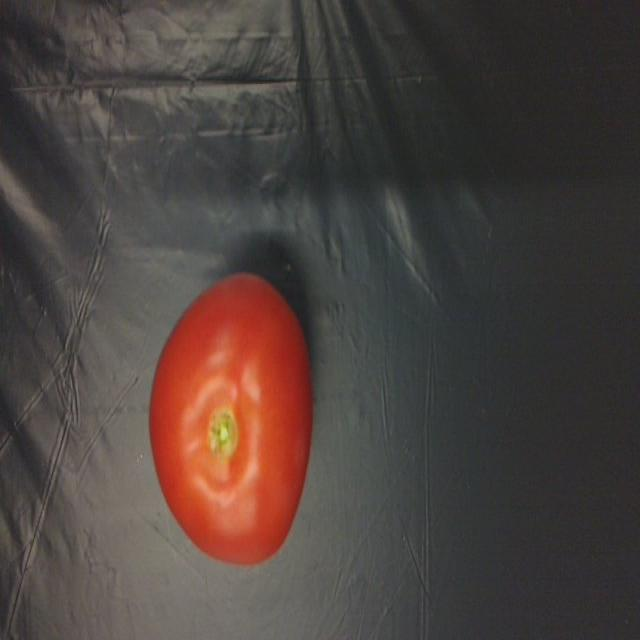kirmizi: (151, 274, 320, 564)
